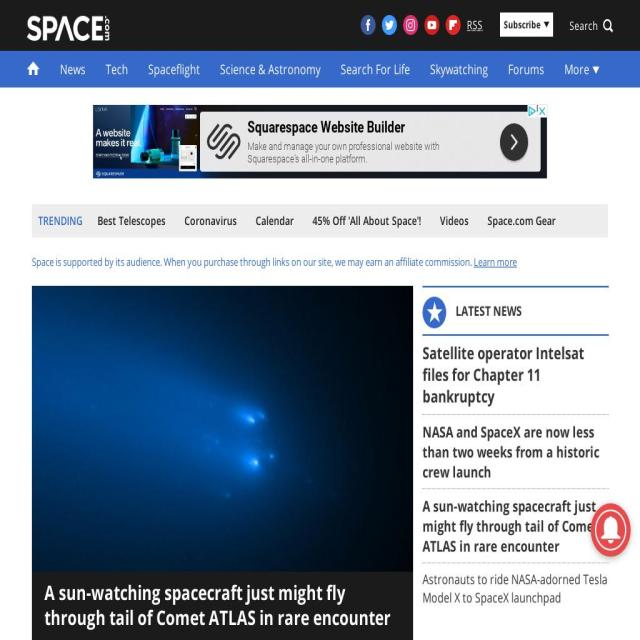button: (32, 286, 413, 640), (422, 336, 608, 414), (422, 489, 608, 563), (422, 415, 608, 488), (422, 564, 608, 614), (210, 51, 331, 87), (304, 204, 430, 238), (331, 51, 420, 87), (89, 204, 174, 238), (479, 204, 564, 238), (420, 51, 498, 87), (138, 51, 210, 87), (176, 204, 246, 238), (498, 51, 554, 87), (247, 204, 302, 238), (50, 51, 96, 87), (432, 204, 478, 238), (96, 51, 138, 87), (467, 15, 482, 35)
heading: (422, 342, 608, 408), (422, 422, 608, 482), (422, 496, 608, 556), (422, 570, 608, 607), (456, 302, 522, 320)
iframe: (92, 104, 548, 179)
image: (32, 286, 413, 572), (590, 503, 630, 557), (27, 16, 109, 42), (360, 15, 376, 35), (424, 15, 440, 35), (382, 15, 397, 35), (403, 15, 418, 35), (446, 15, 460, 35), (544, 21, 549, 28)
link: (474, 254, 517, 269), (467, 16, 482, 32)
text: (44, 577, 390, 631), (32, 254, 474, 269), (220, 60, 321, 78), (569, 0, 603, 51), (38, 204, 89, 238), (341, 60, 410, 78), (430, 60, 488, 78), (148, 60, 200, 78), (508, 60, 544, 78), (504, 18, 540, 32), (564, 60, 592, 78), (60, 60, 86, 78), (106, 60, 128, 78)
